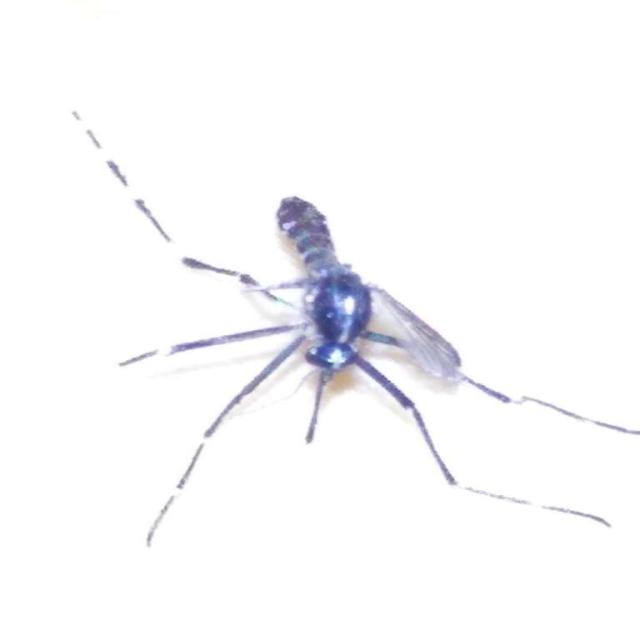albopictus: (82, 136, 634, 560)
